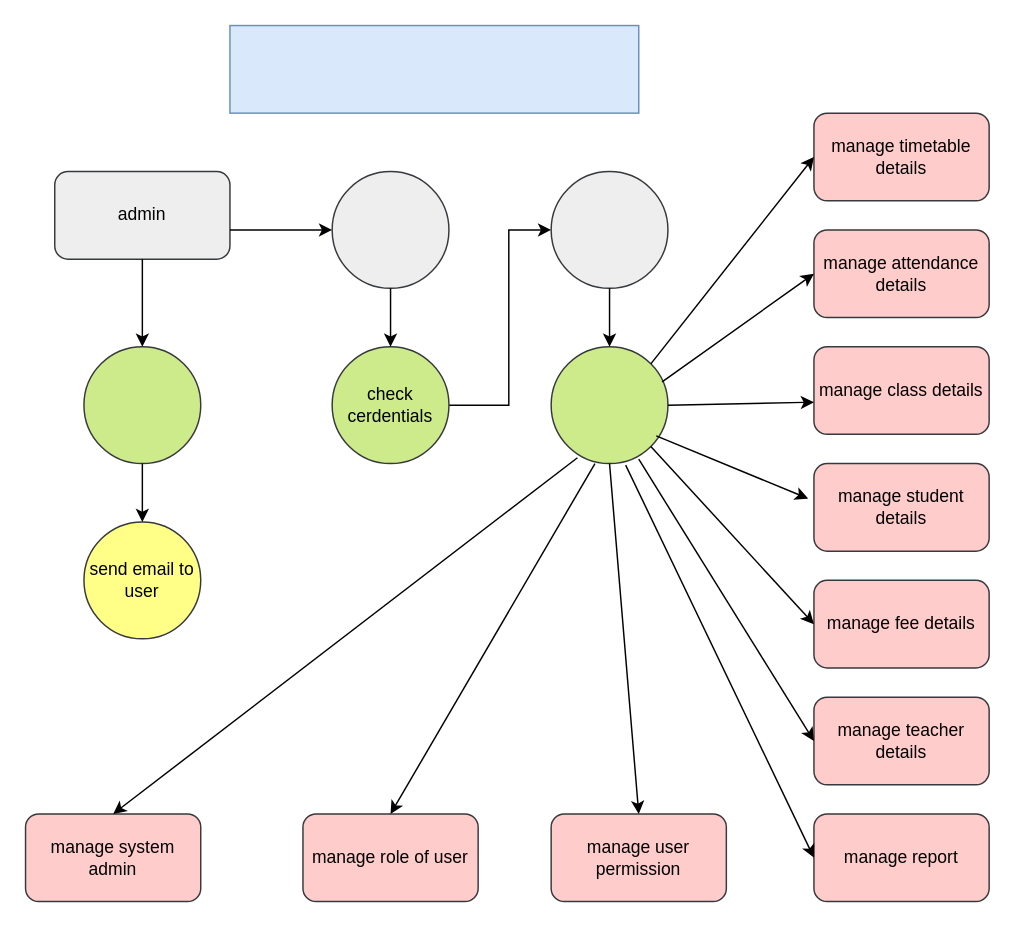
Some shapes in this 1015 by 927 pixel diagram are drawn without their labels. The shapes that lost their labels are listed below. From the top down, each one's centre as x and y in pixels, then its label:
At point 433,68: "student information system".
At point 390,229: "login to system".
At point 609,229: "check roles of acess".
At point 141,404: "forget password".
At point 609,404: "manage modules".
